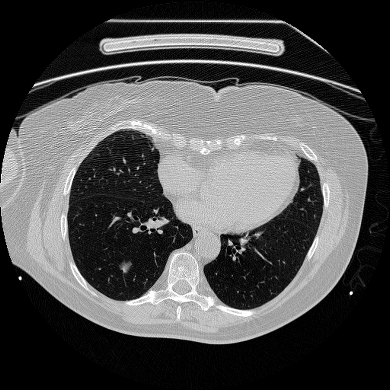nodule: (121, 262, 131, 272)
